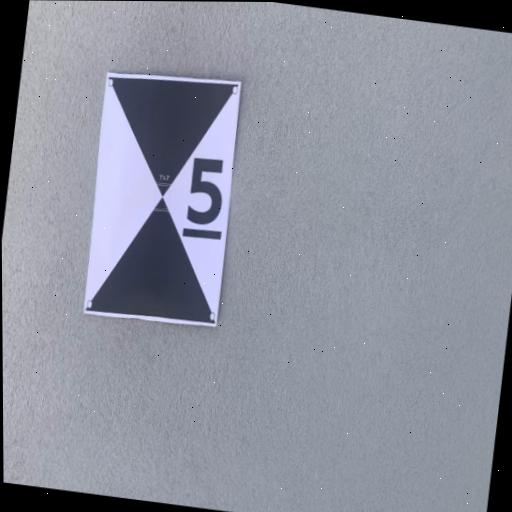target5: (79, 73, 246, 324)
